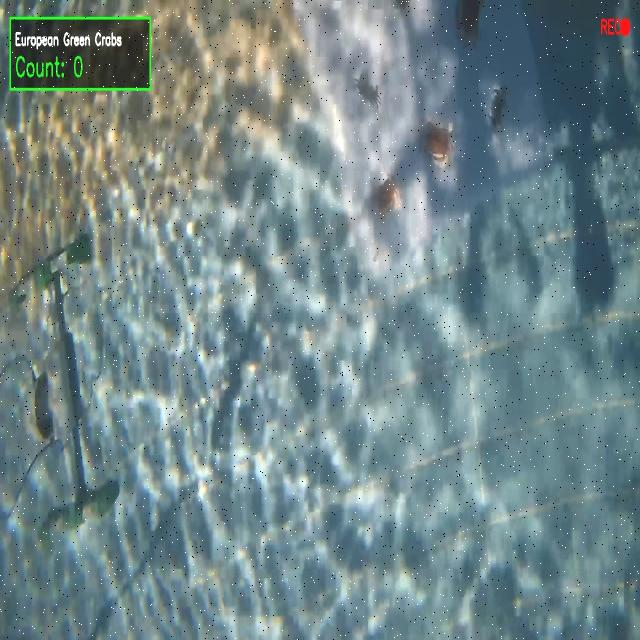European_Green_Crab: (350, 62, 385, 113), (485, 79, 509, 133)
